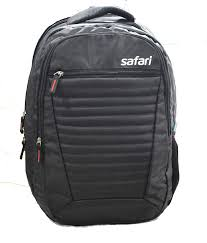backpack: (19, 5, 179, 226)
